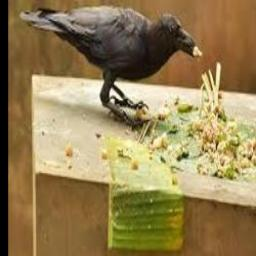Crow: (18, 5, 199, 116)
